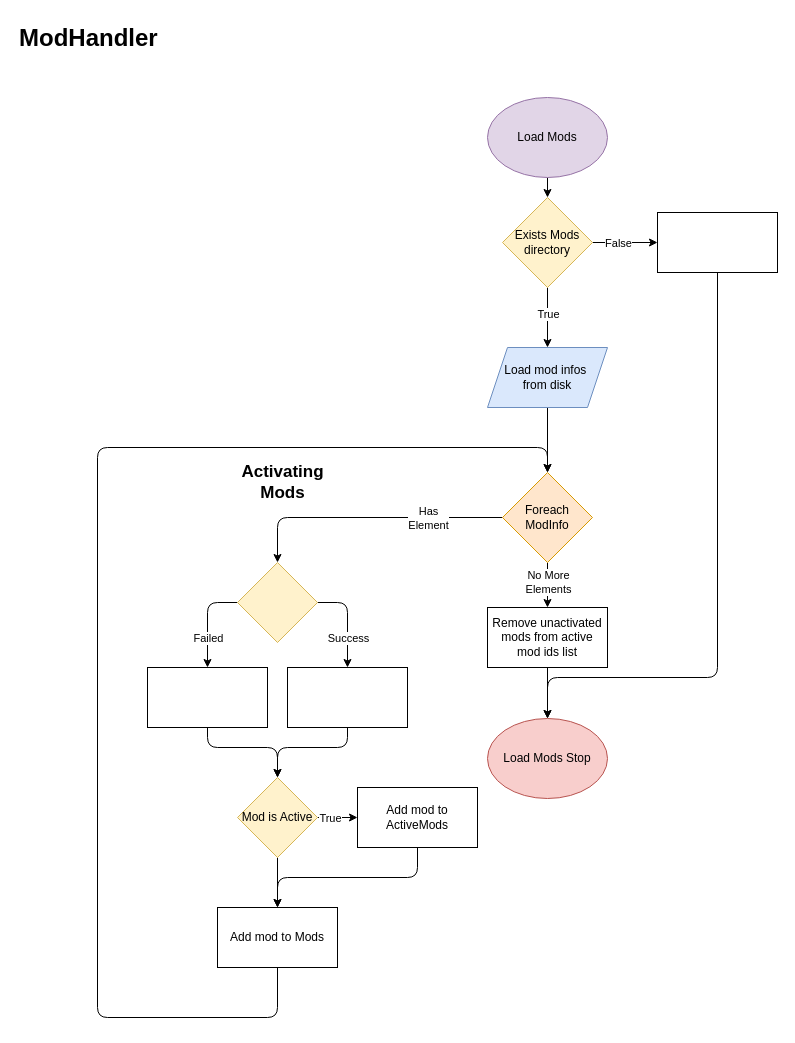
Some shapes in this 795 by 1043 pixel diagram are drawn without their labels. The centre of each missing label's shape, as x and y in pixels:
"Create generic Mod object" goes at (207,697).
"Create Mod object from Assembly Mod Class" goes at (347,697).
"Create Mods directory" goes at (717,242).
"Try Load Assembly" goes at (277,602).
